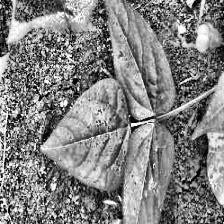ALS: (43, 80, 130, 187), (104, 0, 164, 87), (123, 120, 162, 224)
